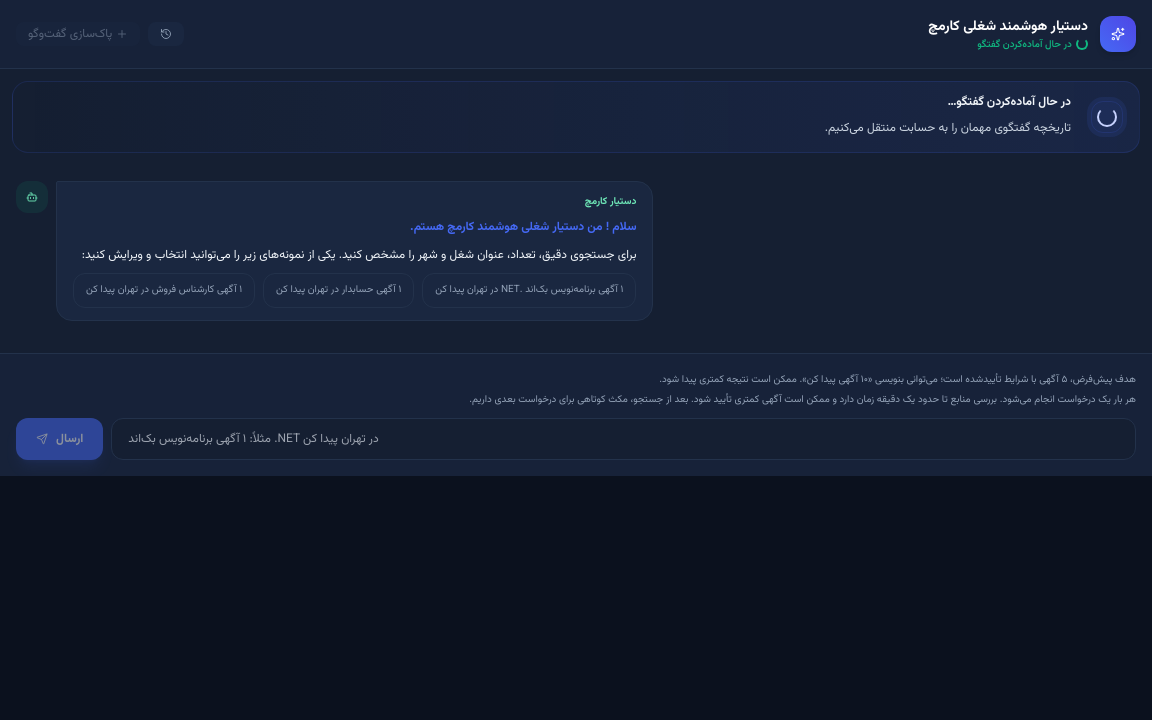
Test case: Chat composer › allows a role-only message and displays readiness after success
Type "Backend" into the field named "پیام شما" at [624, 438], box x1=111 y1=418 x2=1136 y2=460
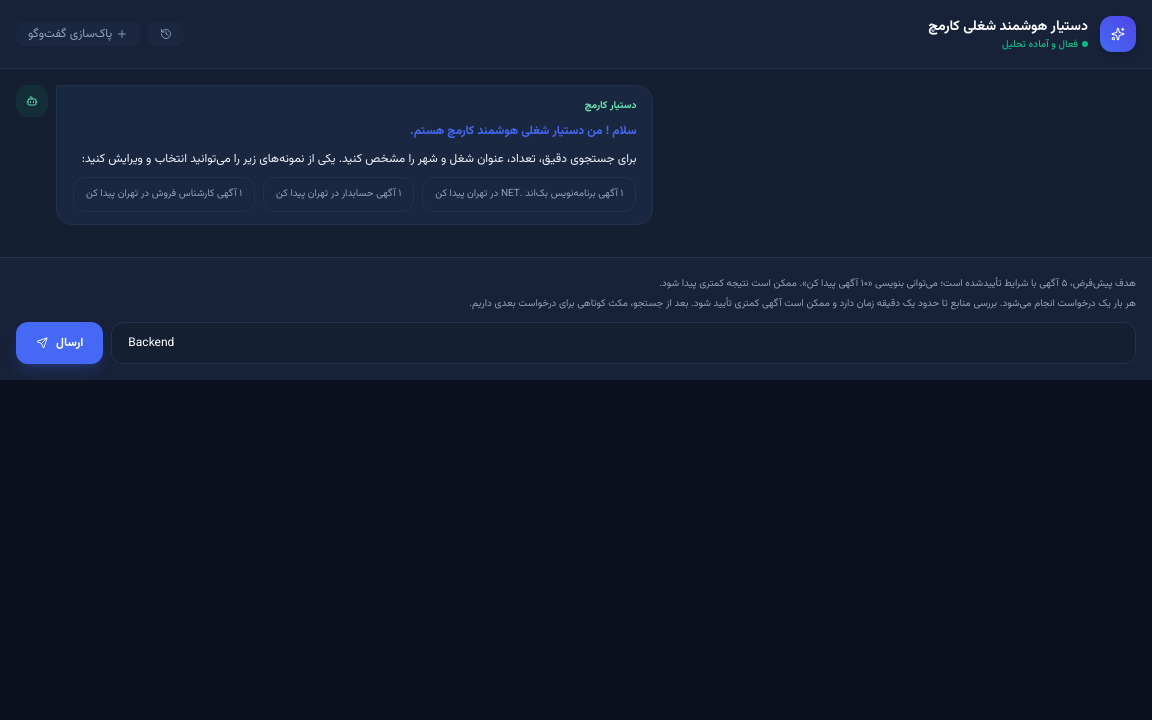
Click the button with aria-label "ارسال پیام" at [60, 342], box x1=16 y1=322 x2=103 y2=364
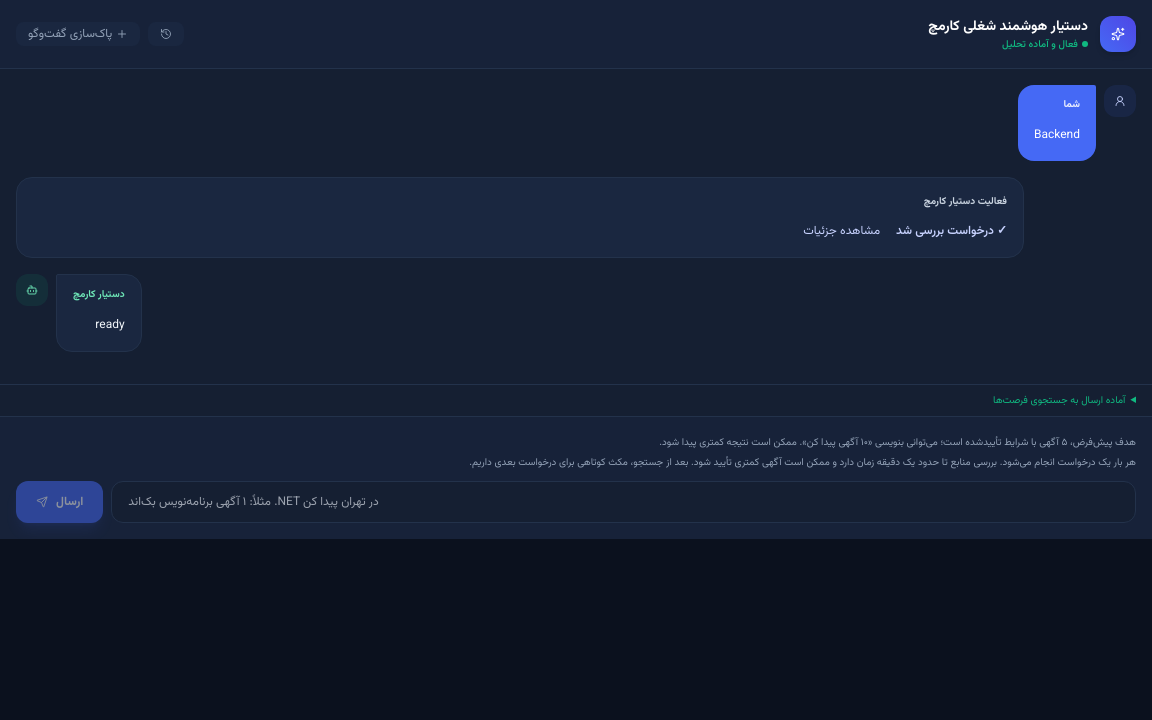
Expected: the heading "آماده ارسال به جستجوی فرصت‌ها" is shown, x1=993 y1=393 x2=1125 y2=408
Expected: the field named "پیام شما" is empty, x1=111 y1=481 x2=1136 y2=523
